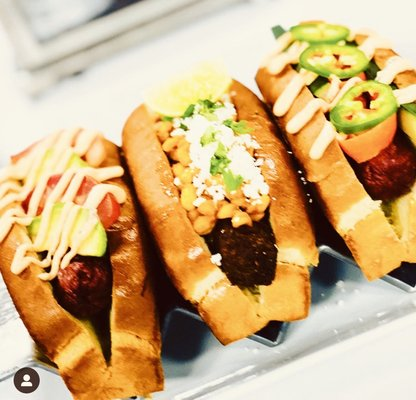burger: (121, 58, 320, 350), (0, 125, 167, 396), (253, 20, 416, 282)
curry: (0, 0, 411, 394)
